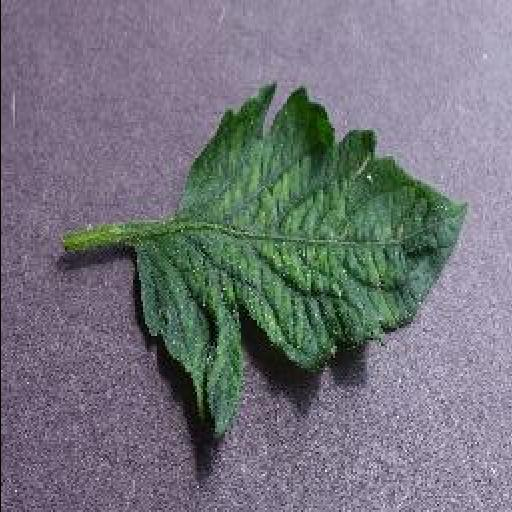disease_tomato: (130, 83, 468, 441)
